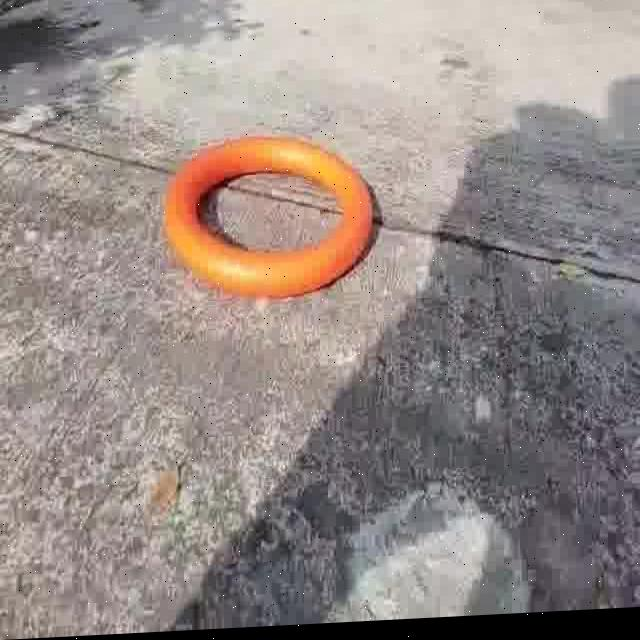note: (163, 127, 383, 313)
